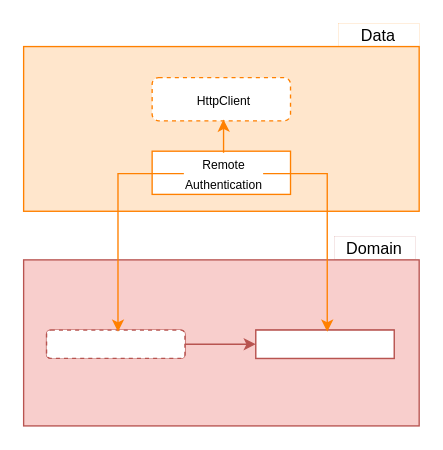
Some shapes in this 443 by 450 pixel diagram are drawn without their labels. Here are the shapes that lost their labels. From the top down, the centre of each, then its label:
point 115,343: Authentication
point 324,343: Account
